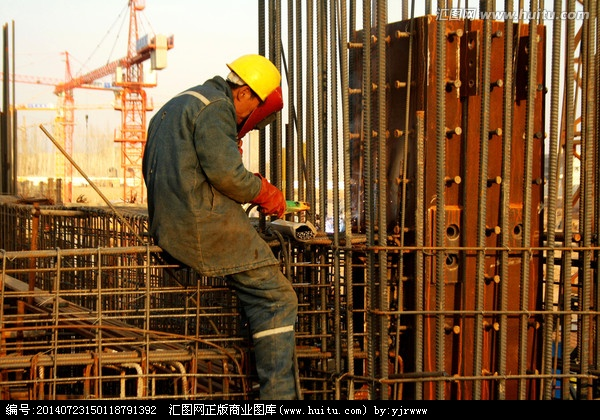yellow: (219, 53, 284, 129)
